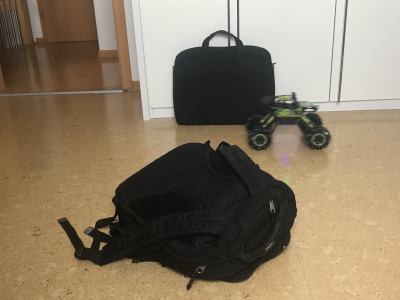remote control car: (244, 93, 333, 153)
